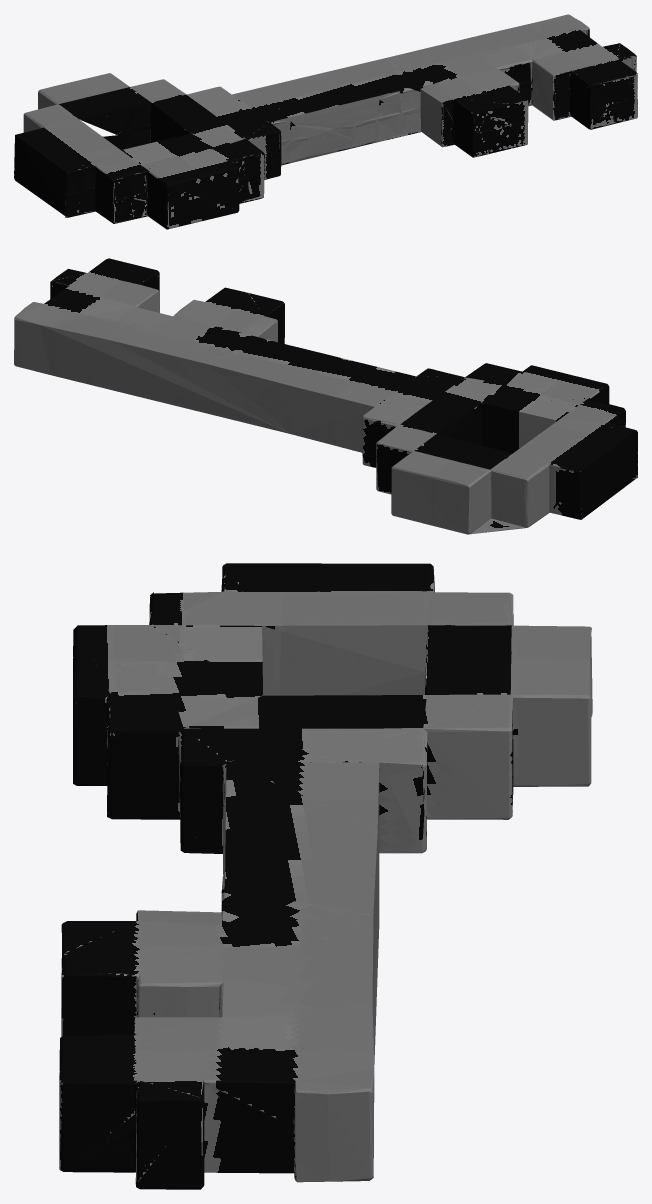
3 renders of one model, top to bottom at view 1: azimuth 30°, elevation 25°; view 2: azimuth 150°, elevation 25°; view 3: azimuth 270°, elevation 25°, orthographic. The views are drawn at different scales.
Parts seen in each view (by area): view 1: OBJ10e; view 2: OBJ10e; view 3: OBJ10e.
Boxes of the visible parts, x1,y1,x2,y2 form: OBJ10e: (14,14,637,229); OBJ10e: (14,258,637,534); OBJ10e: (59,563,592,1189).
Bounding box in the file's own units: 0.3262 × 0.0262 × 0.137.
Materials: 1 (1 with a texture image).
